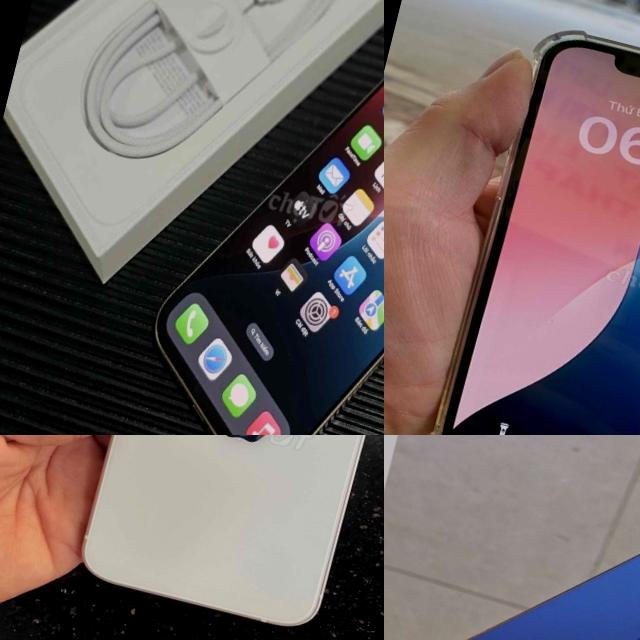gen_12_13: (405, 5, 640, 435), (71, 435, 384, 638)
gen_15: (384, 435, 640, 640)
gen_16: (115, 0, 384, 435)
